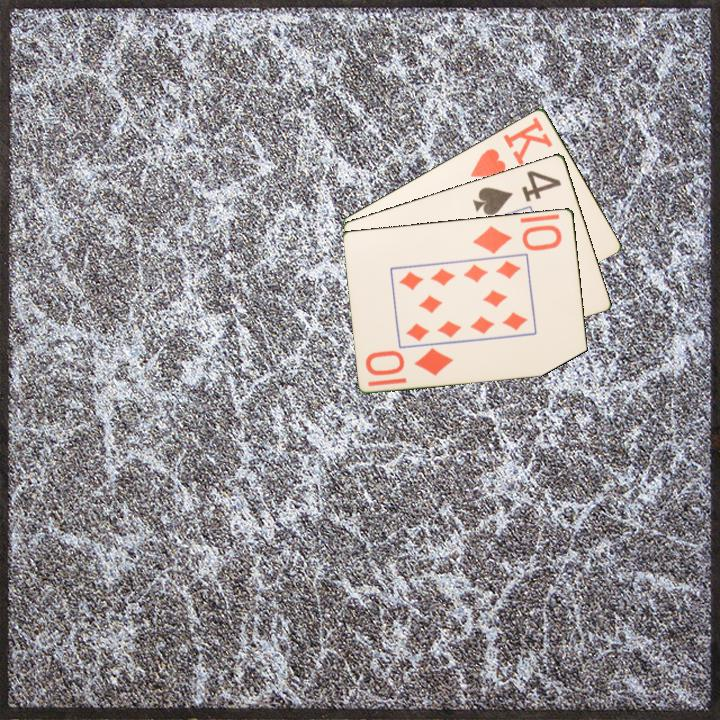10d: (469, 221, 565, 257), (362, 344, 456, 379)
4s: (469, 166, 564, 218)
Kh: (467, 113, 556, 180)
